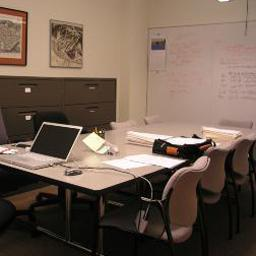Armario: (2, 75, 115, 129)
